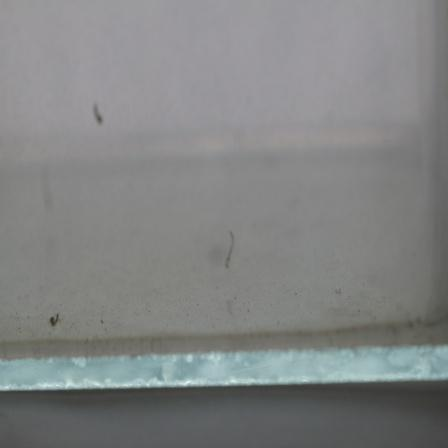Jentik-Nyamuk: (219, 227, 240, 274), (45, 308, 65, 331)
